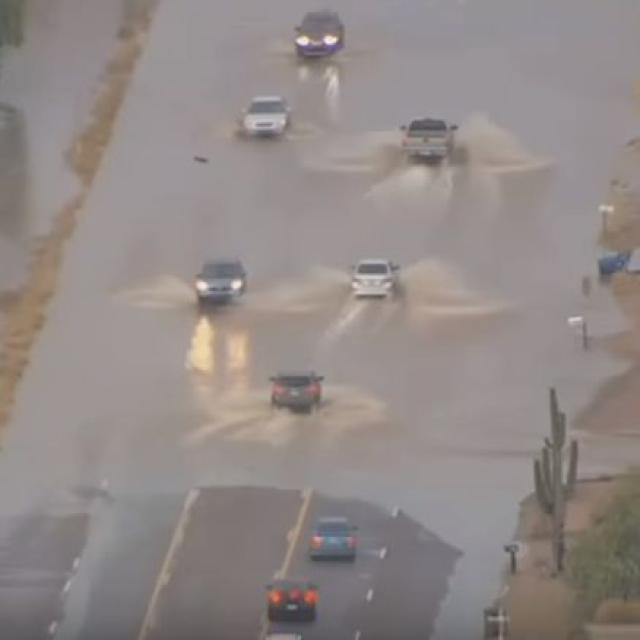flooded_areas: (1, 2, 638, 513)
